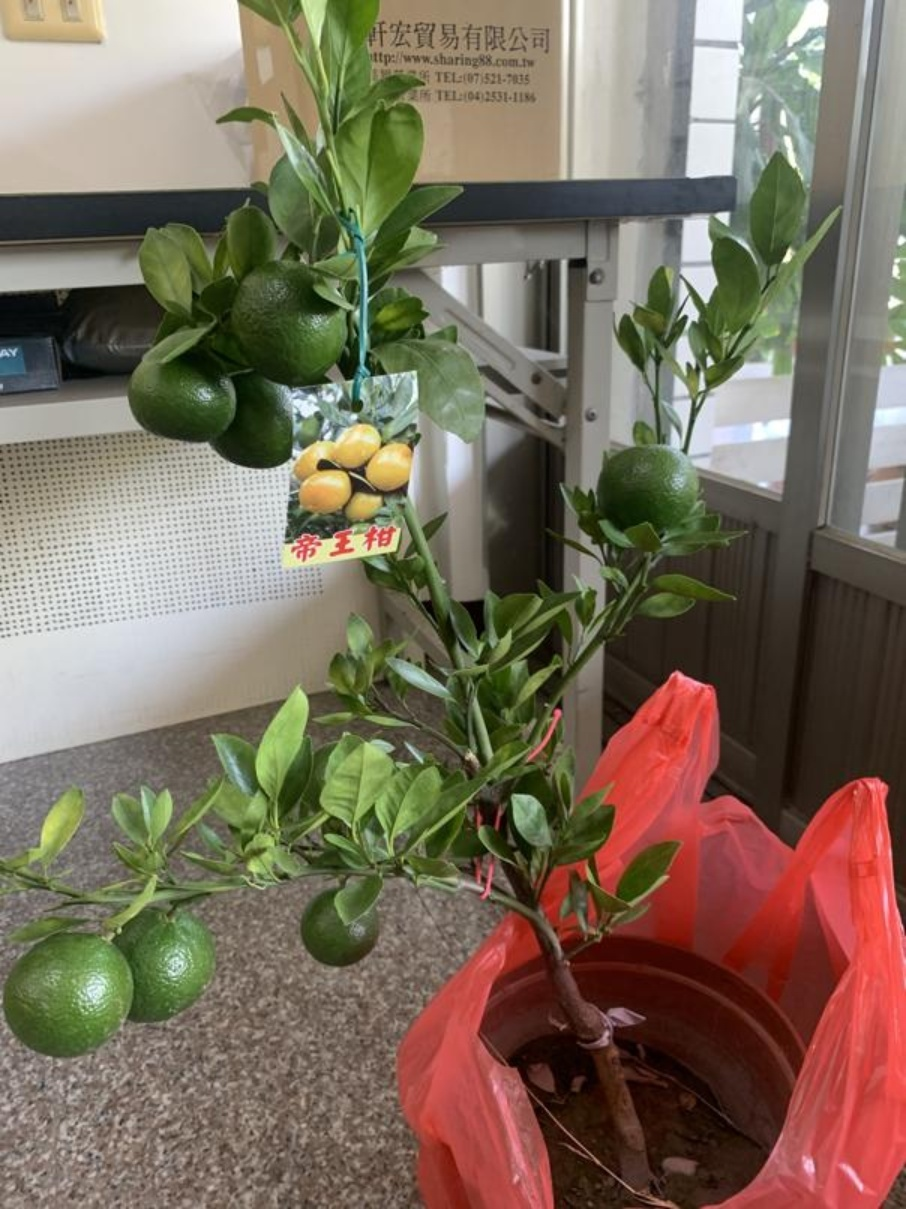Tangerine: (4, 933, 135, 1056), (233, 257, 349, 381), (108, 903, 214, 1020), (128, 340, 238, 447), (595, 436, 700, 535), (211, 376, 291, 468), (299, 884, 380, 972)
